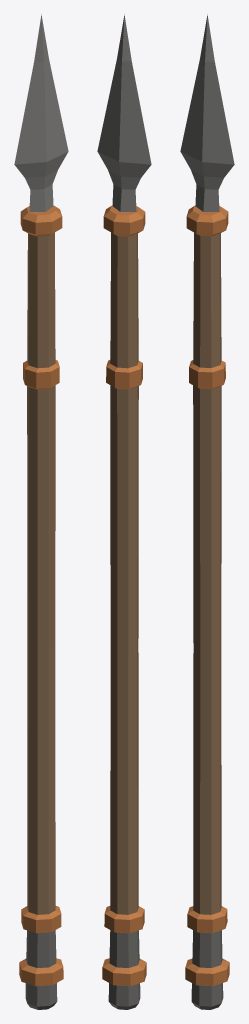
The model's file is SM_pwe_fantasy_spear_02.fbx.
The picture shows the model from 3 angles, left to right: view 1: azimuth 30°, elevation 25°; view 2: azimuth 150°, elevation 25°; view 3: azimuth 330°, elevation 25°; orthographic projection.
Parts seen in each view (by area): view 1: SM_pwe_fantasy_spear_02; view 2: SM_pwe_fantasy_spear_02; view 3: SM_pwe_fantasy_spear_02.
Part boxes in pixels (x1,y1,x2,y2): SM_pwe_fantasy_spear_02: [14, 14, 68, 1009]; SM_pwe_fantasy_spear_02: [97, 14, 151, 1009]; SM_pwe_fantasy_spear_02: [180, 14, 234, 1009].
Bounding box in the file's own units: 9.6 × 168 × 7.06.
